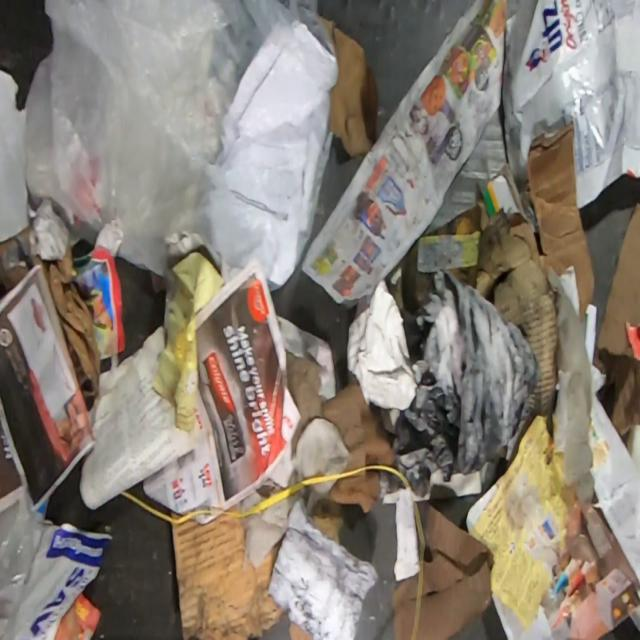cardboard: (403, 121, 597, 438), (171, 502, 287, 638), (392, 504, 494, 638), (307, 498, 344, 542)
soft_plastic: (17, 0, 340, 288), (505, 2, 640, 210), (0, 492, 51, 639)
